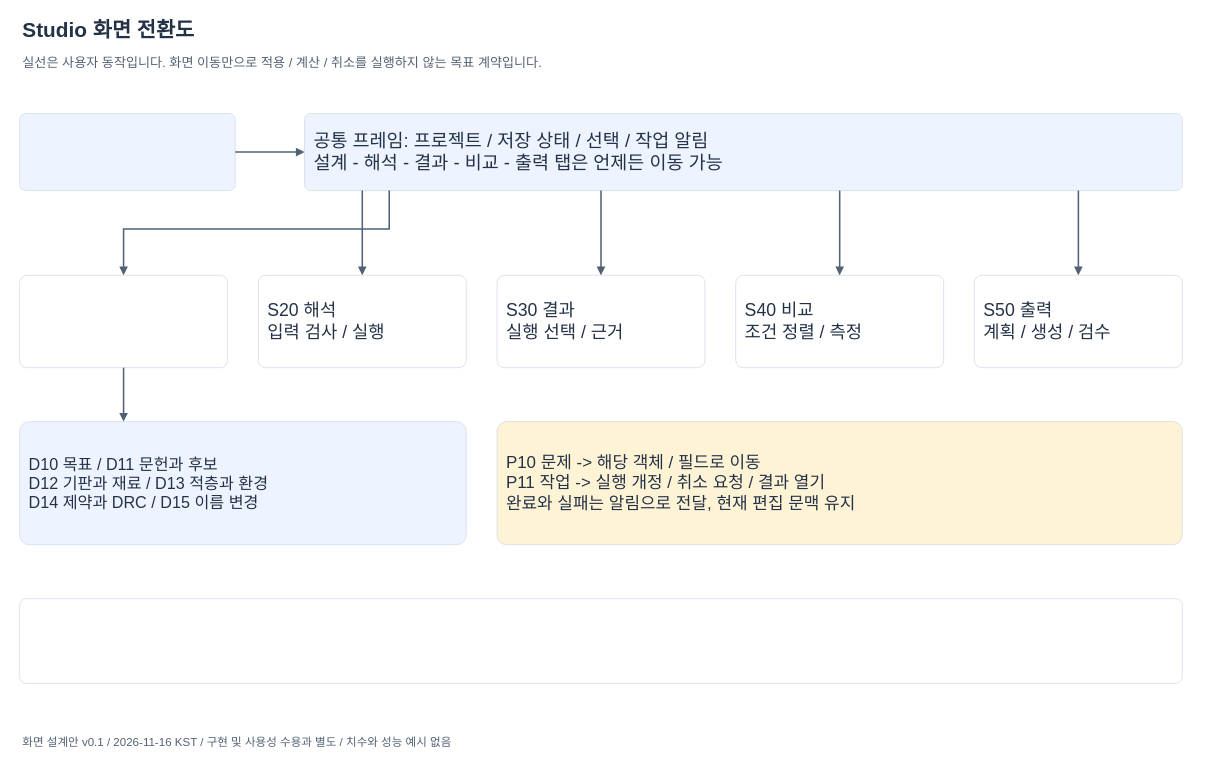
Image size: 1209x767. Some labels were removed from this diagram. Here are the shapes that lost their labels. From the top down, the centre of each, then its label:
the point at 127,152: S00 시작 / 복구 새 프로젝트 또는 열기
the point at 123,321: S10 설계 S11 2D / S12 3D
the point at 600,640: 공통 전환 규칙 미적용 초안이 영향받으면 적용 / 버리기 / 머무르기. 결과 불명은 재조회 후 해제. Esc는 해석 취소가 아님.
